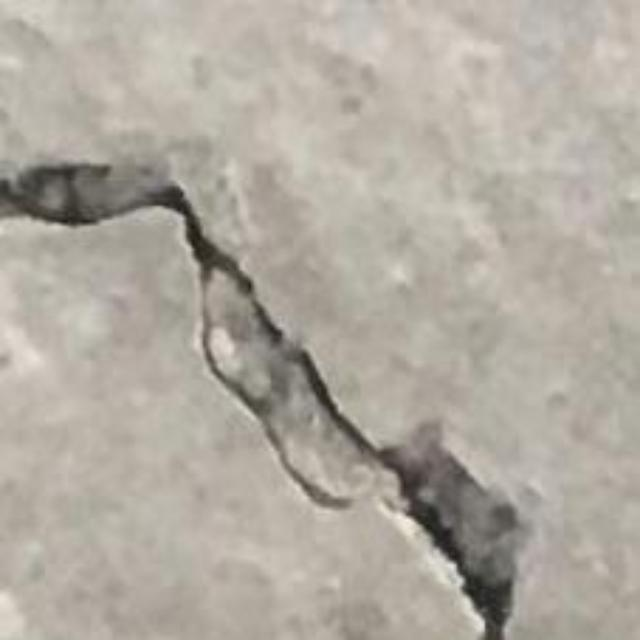crack: (0, 164, 521, 639)
